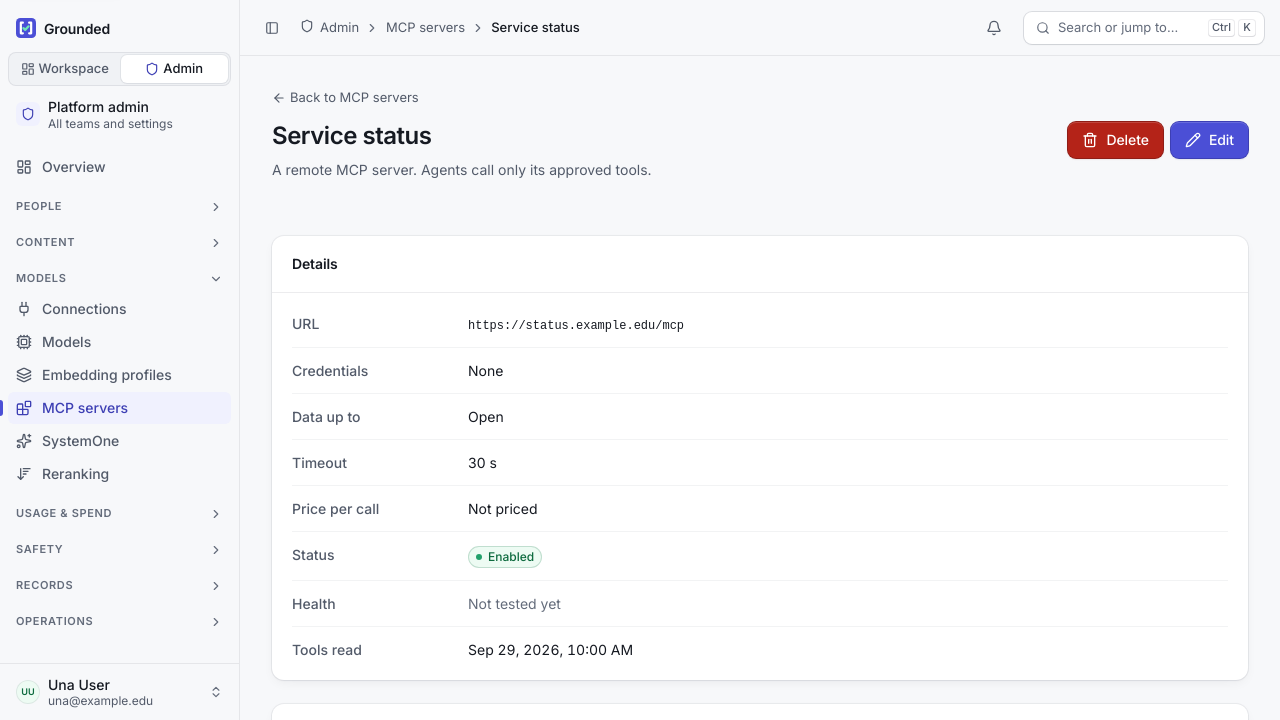
Test case: Admin → MCP servers: guarded changes › shows the agents a refused delete names
Click the button "Delete" at (1116, 140), box x1=1068 y1=122 x2=1163 y2=158
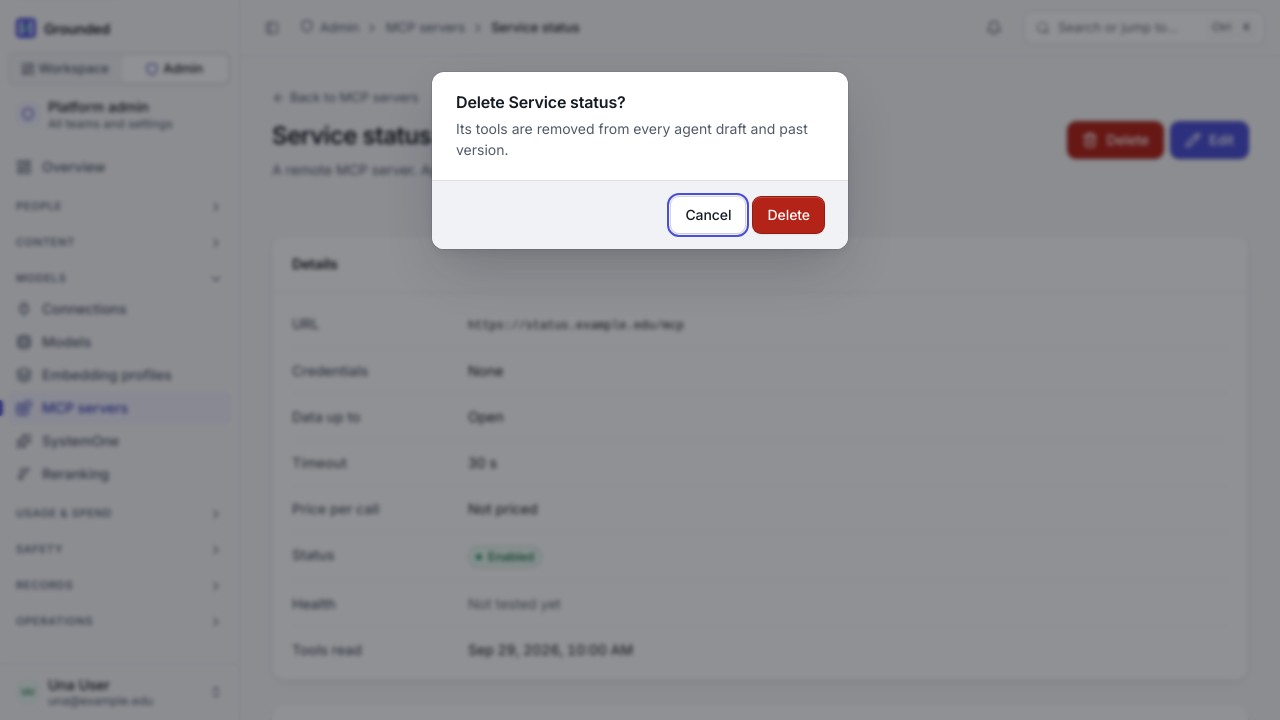
Click the button "Delete" at (789, 215), box x1=754 y1=197 x2=824 y2=233
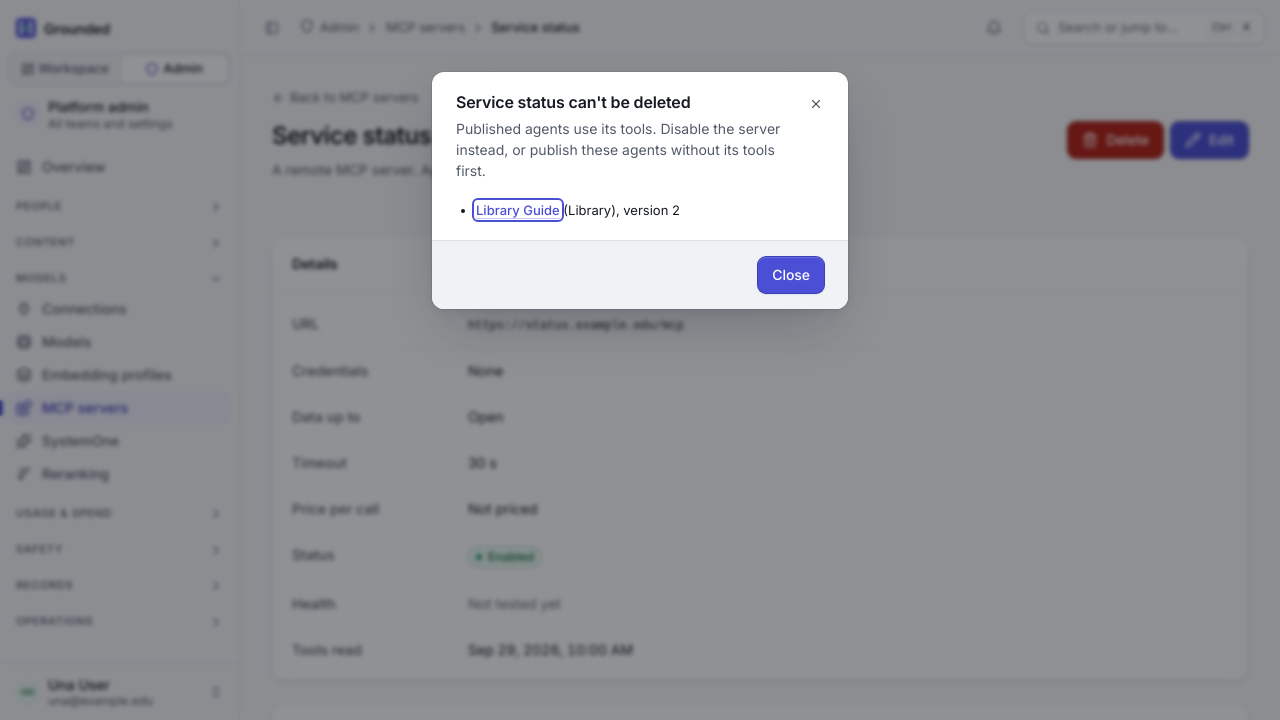
Now the dialog "Service status can't be deleted" shows "Library Guide (Library), version 2", box x1=432 y1=72 x2=848 y2=309
